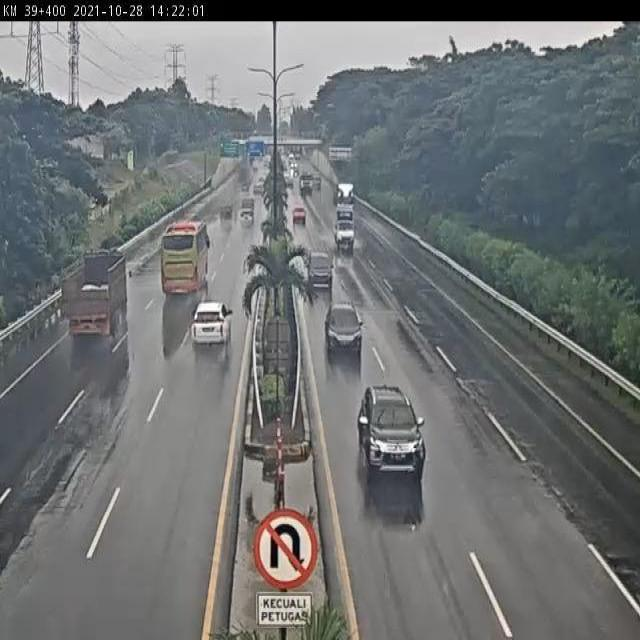big bus: (159, 220, 211, 301)
car: (356, 383, 426, 477), (190, 301, 232, 355), (324, 301, 364, 356), (303, 247, 337, 289), (238, 207, 256, 230), (215, 203, 234, 224), (292, 205, 308, 228)
truck-m-: (62, 251, 129, 340)
truck-s-: (333, 205, 356, 252)
